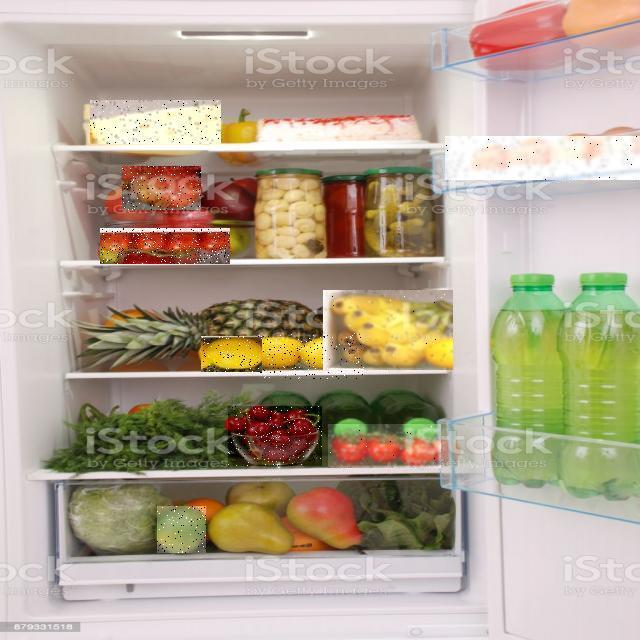apple: (21, 105, 222, 315)
banana: (96, 185, 550, 555)
cheese: (0, 72, 200, 216)
egg: (125, 90, 640, 270)
tomato: (107, 234, 548, 640), (67, 233, 389, 640), (0, 132, 215, 396)
